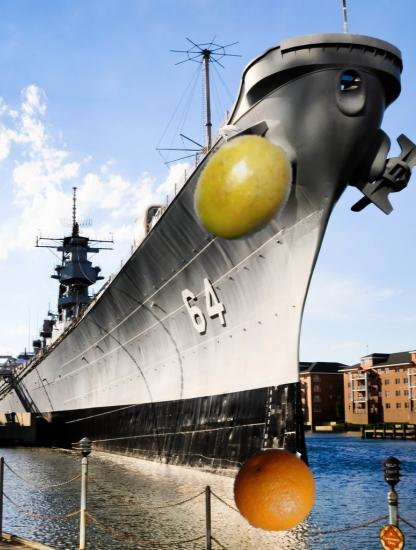Maracuja: (186, 132, 300, 246)
Orange: (232, 446, 319, 533)
